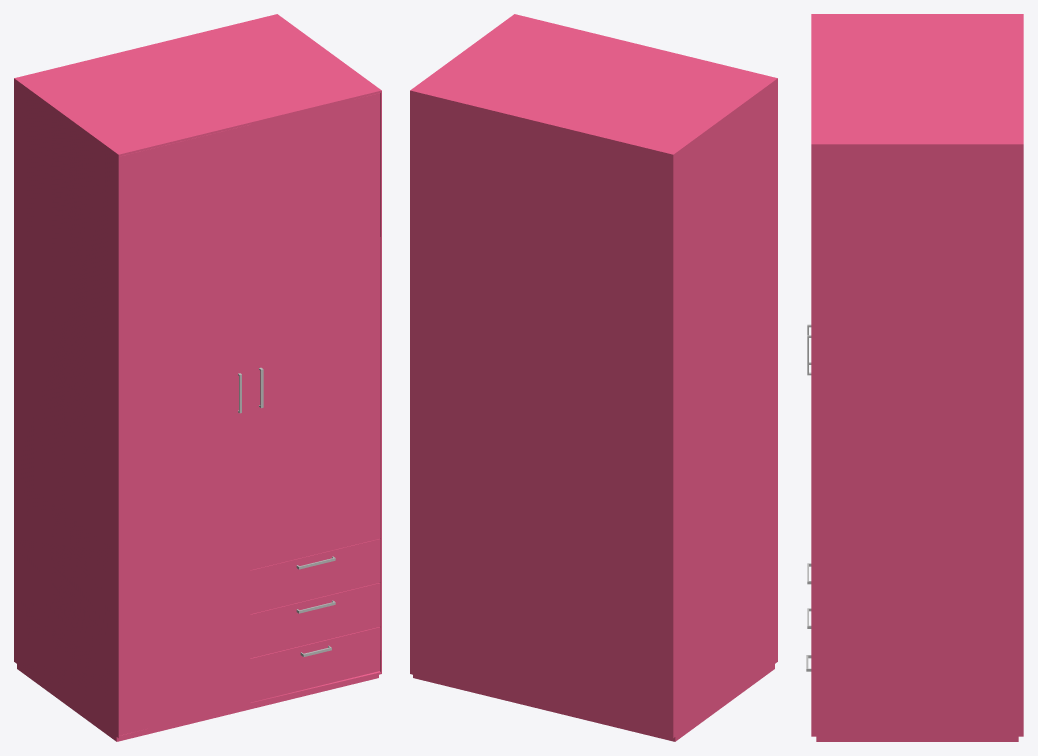
Rendered from ROPERO_ALTO.obj.
3 views of the same model, side by side, from view 1: azimuth 30°, elevation 25°; view 2: azimuth 150°, elevation 25°; view 3: azimuth 270°, elevation 25° (orthographic).
Visible parts, largest first — view 1: Cube; view 2: Cube; view 3: Cube.
Boxes of the visible parts, <box> form: Cube: <box>14,14,381,741</box>; Cube: <box>410,14,777,741</box>; Cube: <box>806,14,1023,741</box>.
Bounding box in the file's own units: 0.8756 × 1.87 × 0.6163.
Materials: 2 (1 with a texture image).
